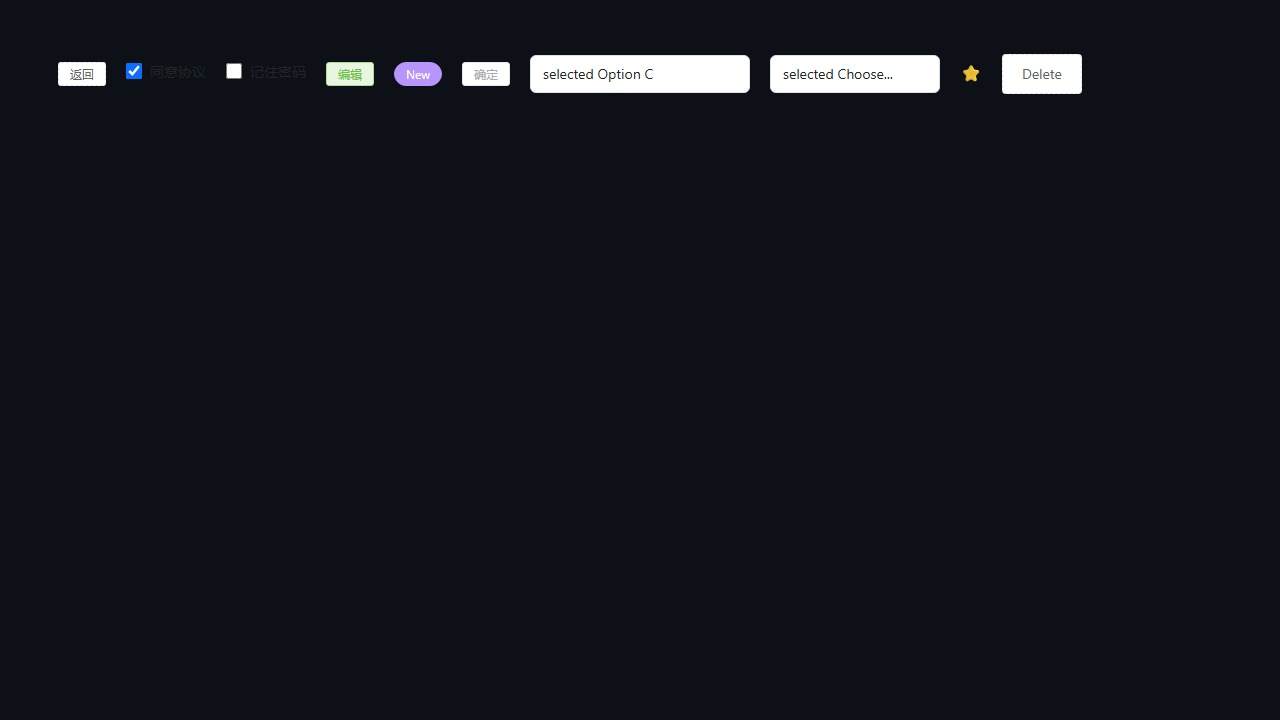button: (1002, 54, 1082, 94), (58, 62, 106, 86), (326, 62, 374, 86), (394, 62, 442, 86), (462, 62, 510, 86)
checkbox: (126, 63, 142, 79), (226, 63, 242, 79)
icon: (150, 61, 206, 80), (250, 61, 306, 80), (960, 65, 982, 81)
radio: (126, 61, 206, 80), (226, 61, 306, 80)
select: (530, 54, 750, 92), (770, 54, 940, 92)
